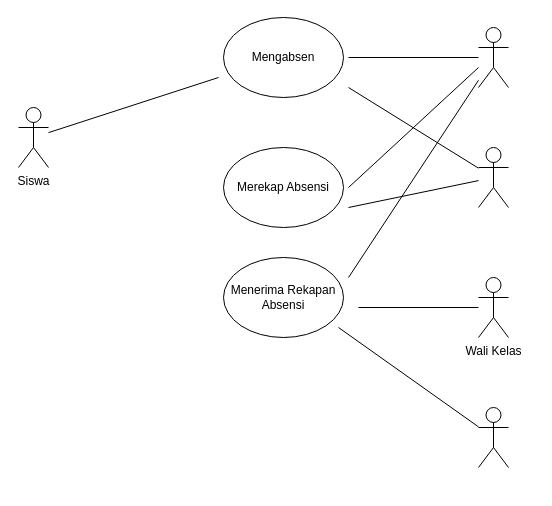
This 552x506 diagram has some shape labels left out. The shapes that lost their labels are listed below. From the top down, each one's centre as x and y in pixels, then its label:
[493,57]: Sekretaris
[493,177]: Guru Pengajar
[493,437]: Kepala Sekolah
